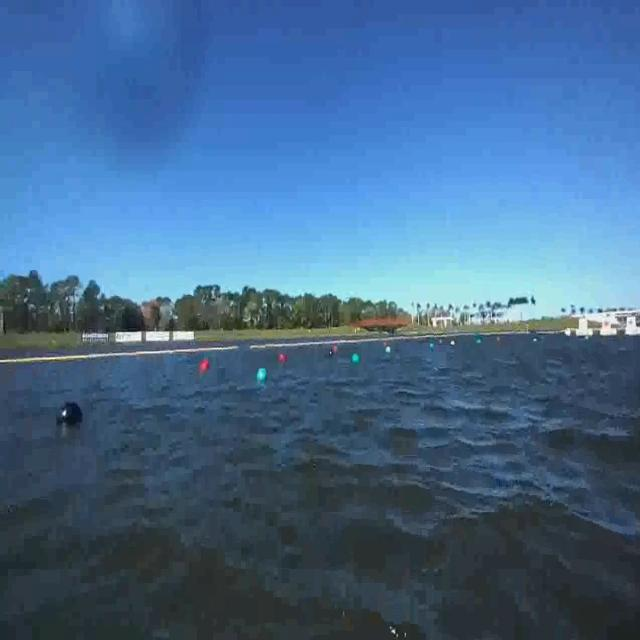black-buoy: (56, 402, 84, 427)
green-buoy: (258, 366, 270, 382), (352, 354, 360, 364)
red-buoy: (196, 353, 216, 377), (279, 353, 287, 362)
